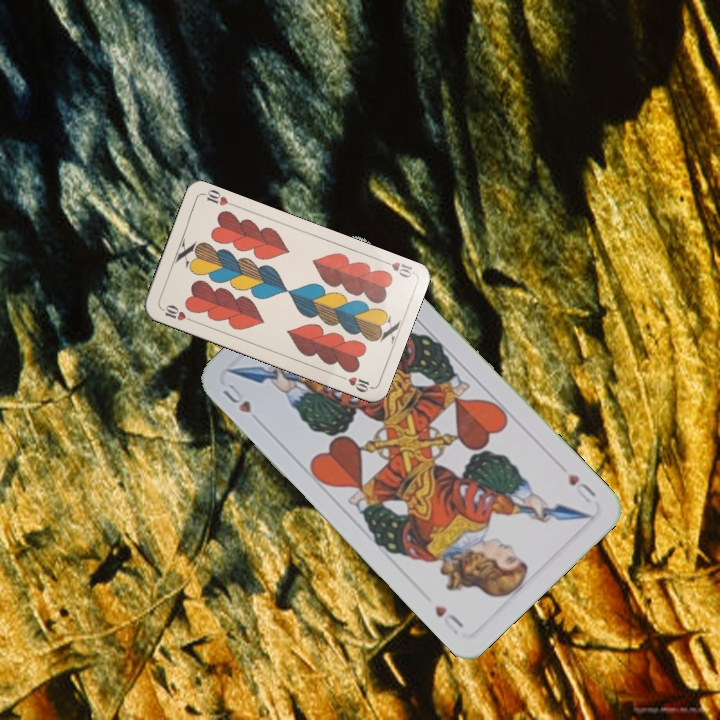H10: (377, 255, 416, 280), (157, 301, 196, 324)
HU: (219, 377, 254, 416), (563, 469, 599, 506)
